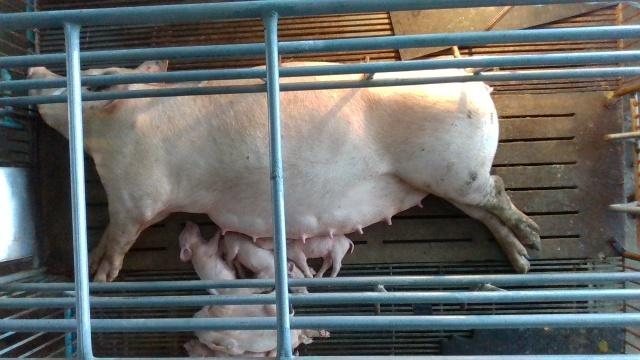piglet: (177, 219, 274, 297), (222, 231, 309, 295), (255, 234, 355, 278), (192, 329, 332, 353), (182, 339, 302, 360), (192, 306, 295, 318)
sow-sleep-lactate: (28, 59, 542, 282)
